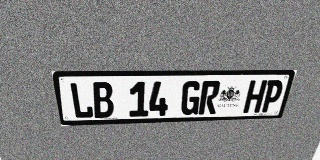1: (129, 81, 149, 117)
4: (149, 81, 169, 116)
B: (91, 82, 114, 118)
G: (180, 81, 202, 115)
H: (243, 80, 268, 113)
L: (69, 82, 94, 119)
P: (259, 80, 285, 112)
R: (198, 81, 221, 115)
